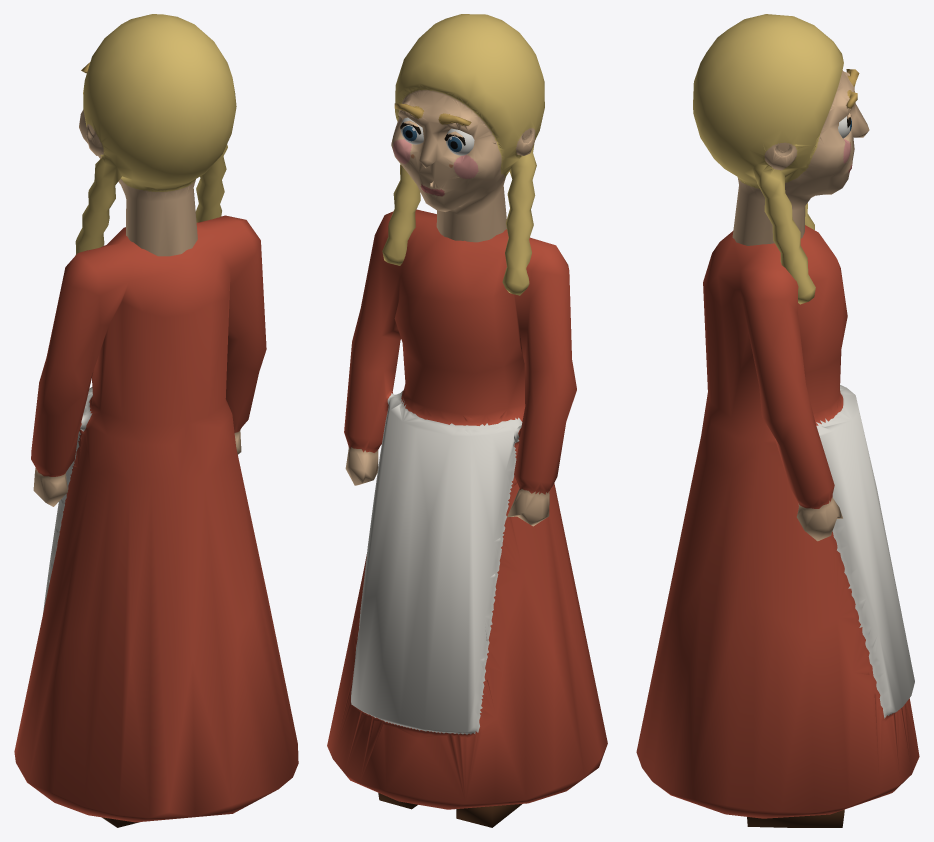
File: sofie.glb
3 views of the same model, side by side, from view 1: azimuth 30°, elevation 25°; view 2: azimuth 150°, elevation 25°; view 3: azimuth 270°, elevation 25° (orthographic).
Visible parts, largest first — view 1: body_lod0, head_lod0; view 2: body_lod0, head_lod0; view 3: body_lod0, head_lod0.
Part boxes in pixels (bbox=[...]): body_lod0: bbox=[14, 215, 298, 827]; head_lod0: bbox=[75, 14, 236, 256]; body_lod0: bbox=[327, 209, 607, 827]; head_lod0: bbox=[382, 14, 544, 295]; body_lod0: bbox=[636, 225, 919, 827]; head_lod0: bbox=[693, 14, 869, 304].
Size of what is drawn, in the model's own units: 0.4776 by 1.45 by 0.4752.
